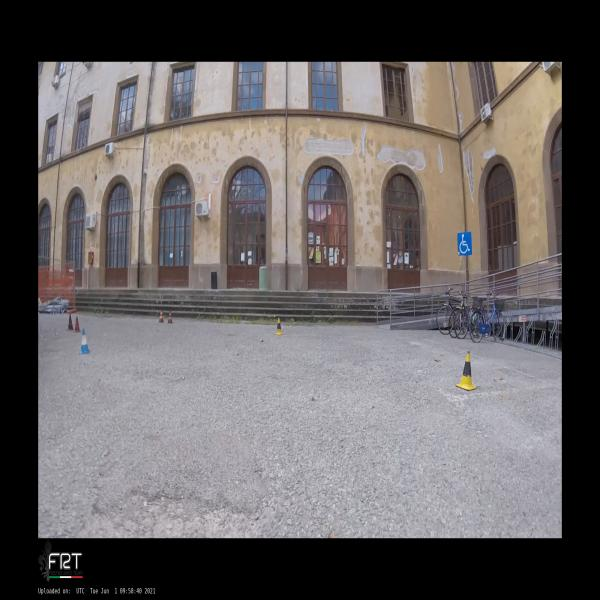blue_cone: (79, 329, 90, 354)
large_orange_cone: (158, 309, 164, 323)
unknown_cone: (66, 314, 74, 330), (73, 317, 81, 332), (166, 310, 174, 324)
yellow_cone: (455, 351, 477, 391), (274, 317, 283, 336)
